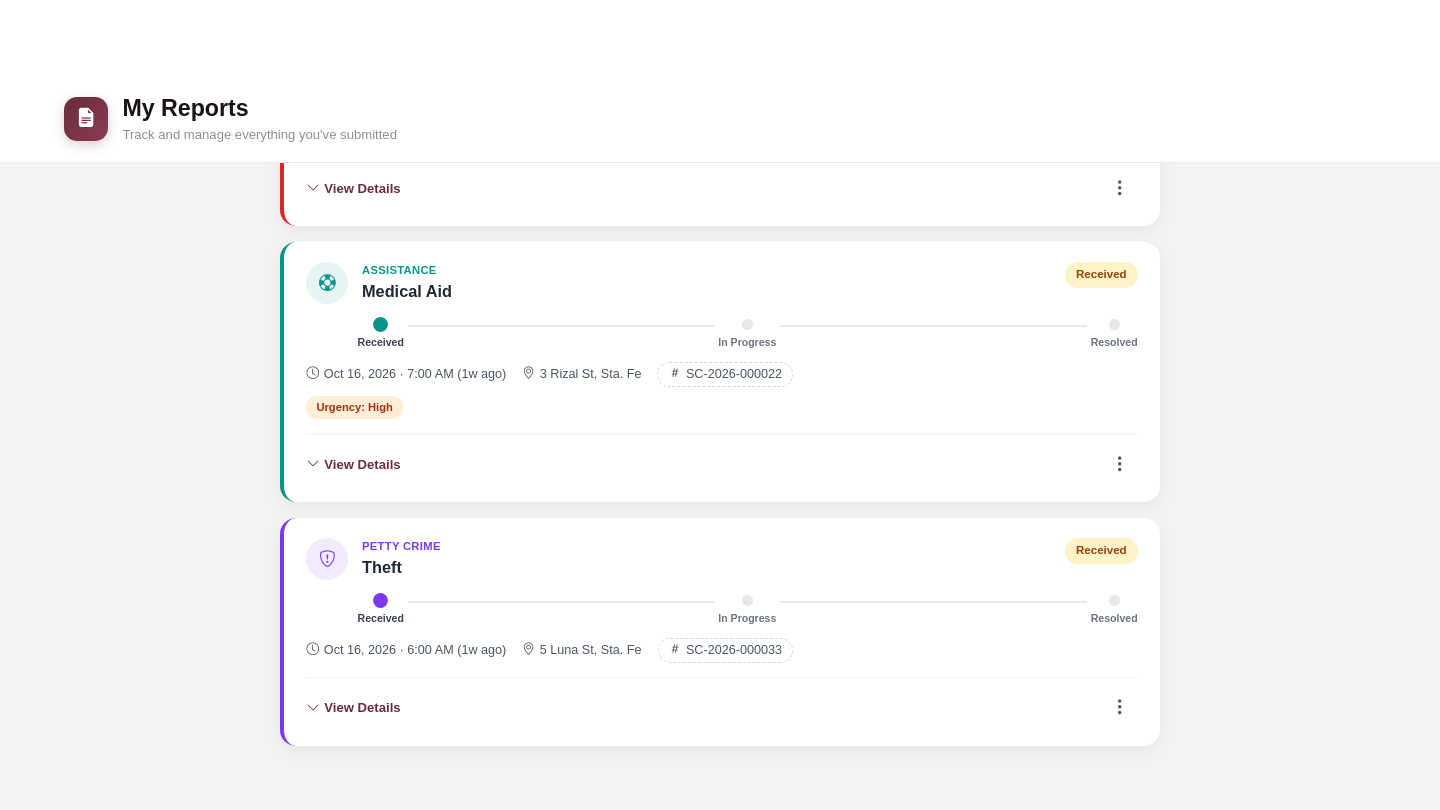
Test: Three-dot menu › clicking it shows Edit and Delete
This screenshot has width=1440, height=810.
(page scrolled)
What coordinates should you click on to do the following:
click the 3rd button named "More options"
I would click on:
 (1120, 708)
Its box is [1102,690,1138,726].
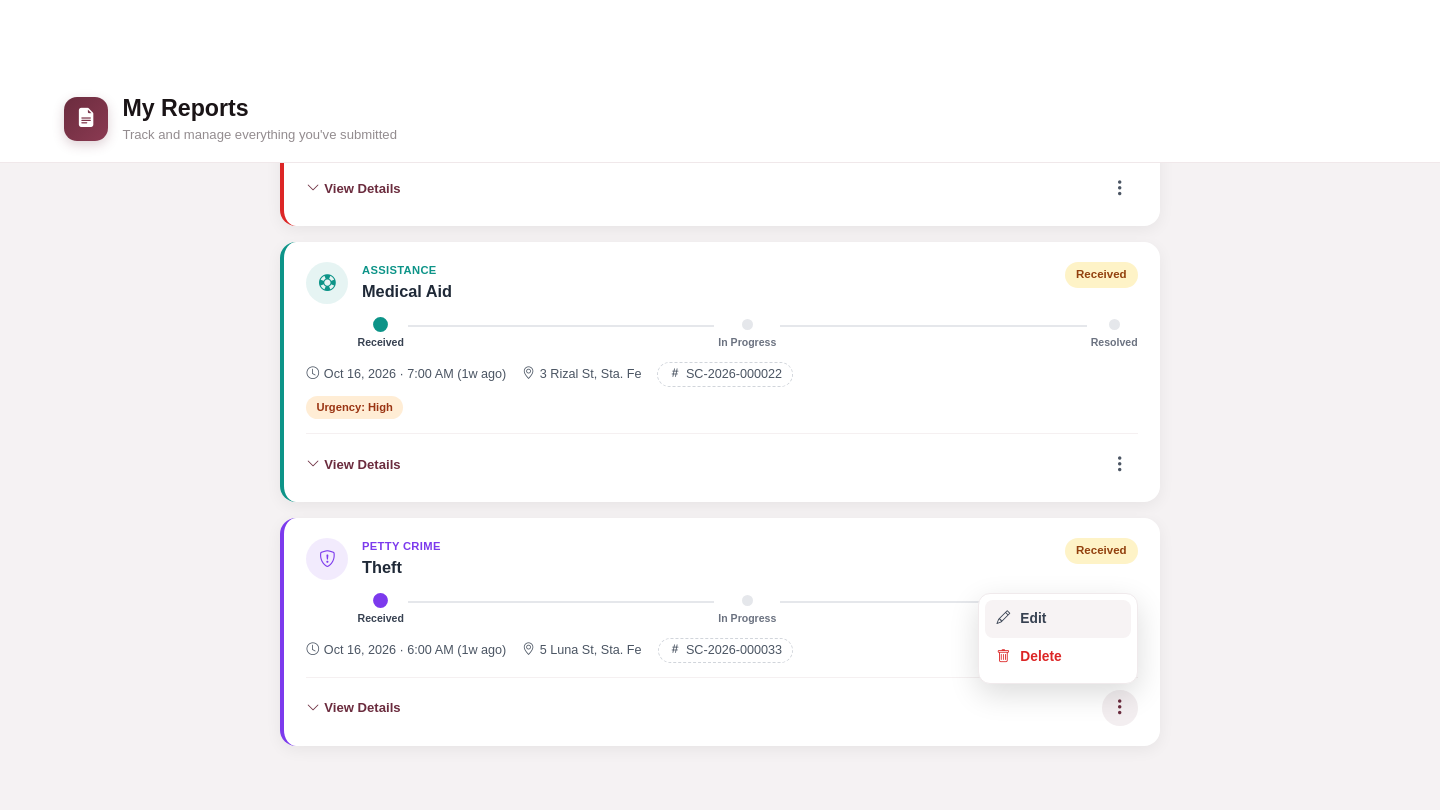
Now the 3rd button named "More options" is expanded, box [1102,690,1138,726]
Now the menu items read "Edit", "Delete", in this order, box [985,600,1131,638]; [985,638,1131,677]
